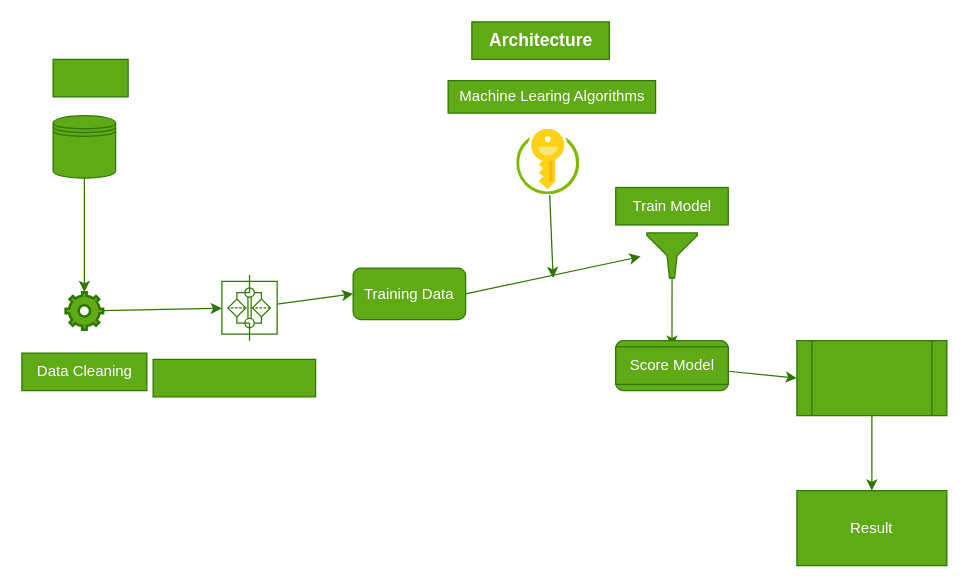
The diagram is 969 pixels wide and 588 high, and some of its shapes have lost their labels. Here are the shapes that lost their labels. From the top down, the centre of each, then its label:
At pixel 90 77: "Dataset".
At pixel 234 377: "Feature Engineering".
At pixel 871 377: "Evaluate Model".
